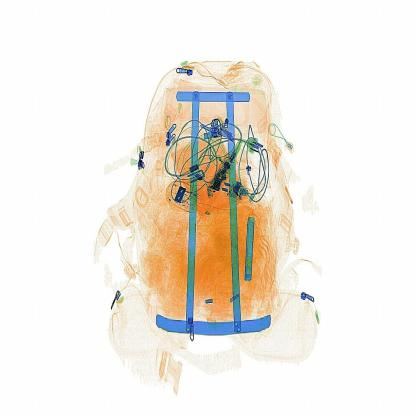pliers: (246, 213, 259, 283)
